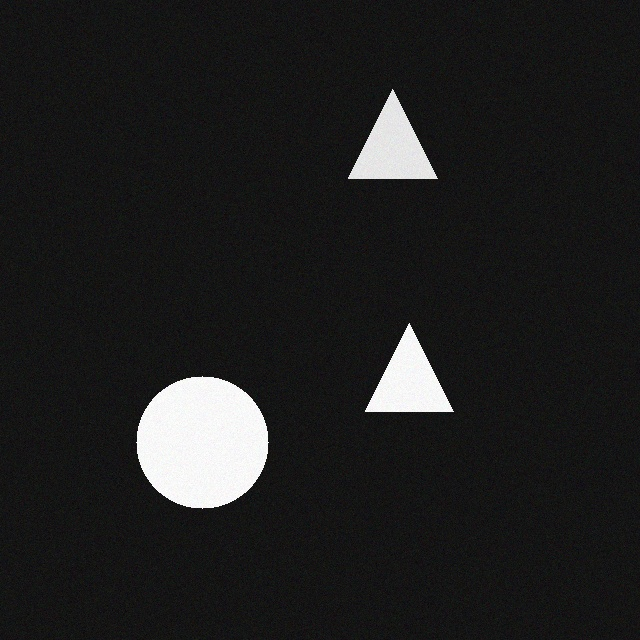circle: (129, 370, 261, 502)
triangle: (341, 83, 430, 172), (358, 317, 446, 405)
